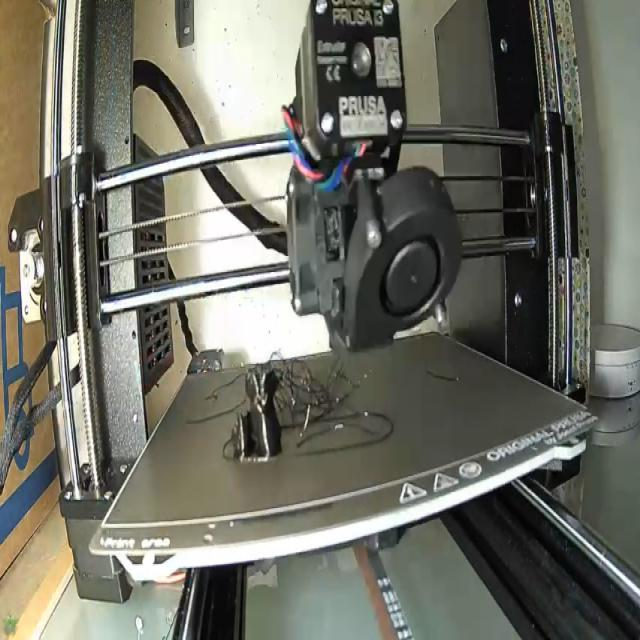spaghetti: (264, 340, 374, 438)
